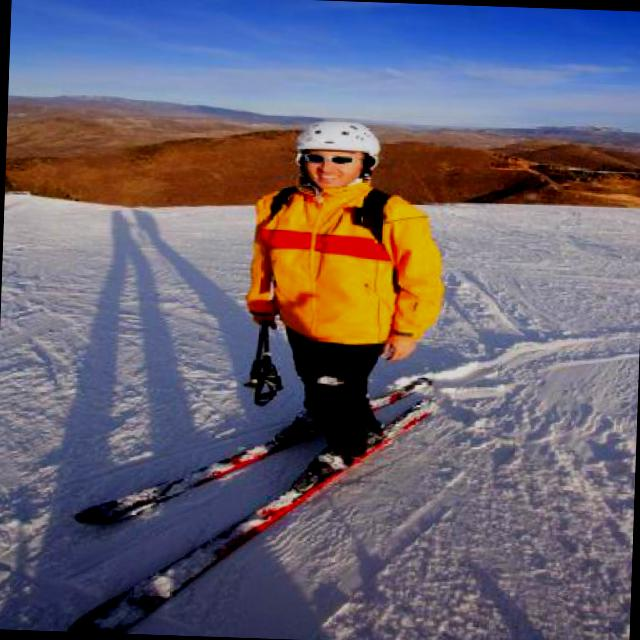Person: (240, 116, 449, 484)
